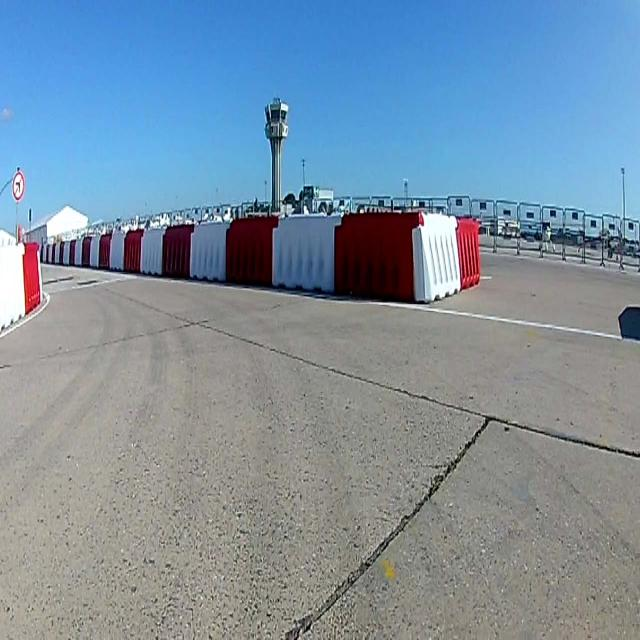soladonulmez: (13, 170, 24, 200)
